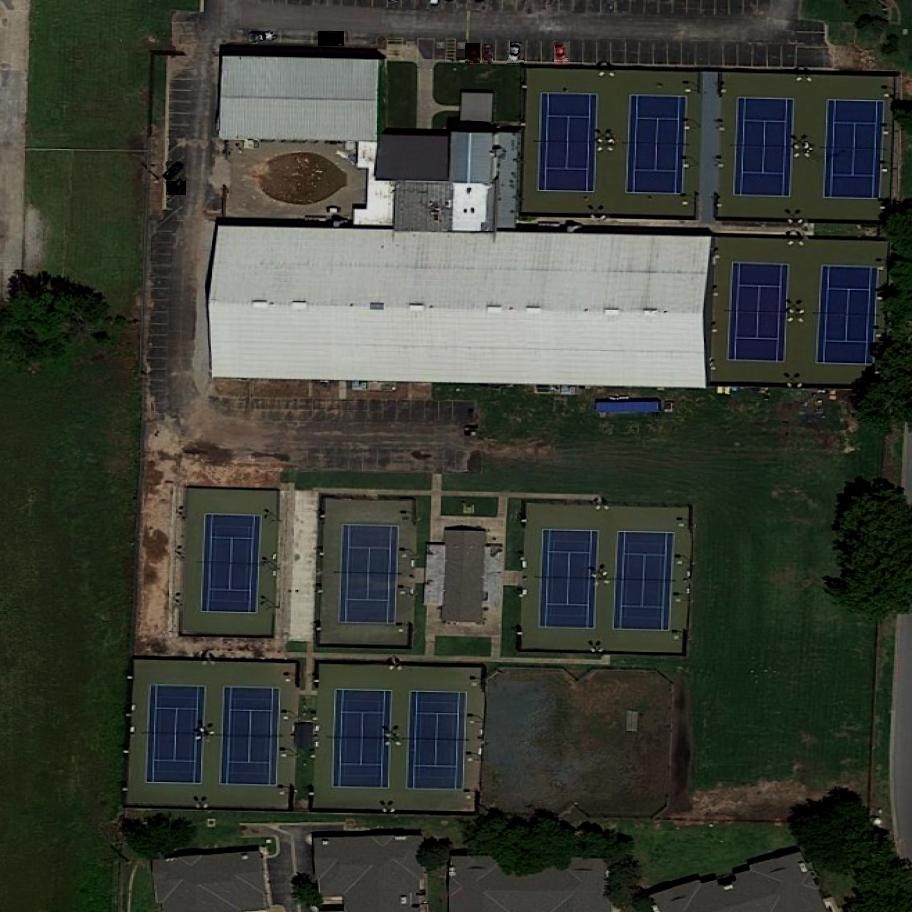small-vehicle: (163, 159, 187, 183), (167, 175, 186, 198), (318, 32, 346, 47), (507, 42, 524, 66), (251, 29, 276, 45), (465, 44, 482, 65), (554, 42, 569, 63), (483, 44, 493, 62)
